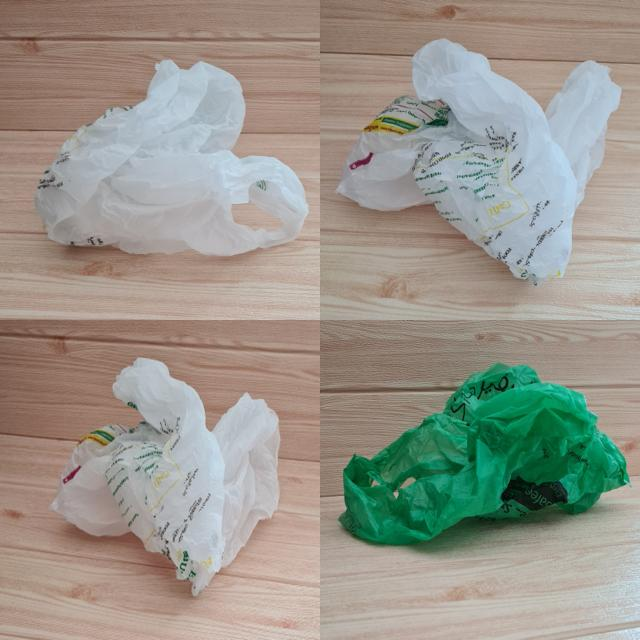Single-layer Plastic: (336, 39, 620, 285), (50, 358, 280, 595), (35, 60, 308, 256), (339, 364, 629, 545)
